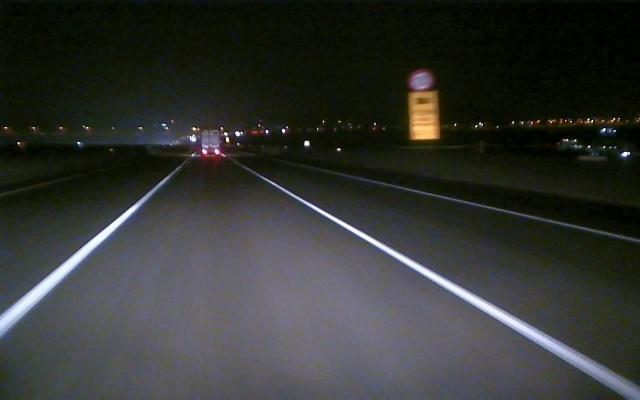lane: (241, 165, 630, 397), (2, 180, 164, 336), (341, 173, 638, 246)
